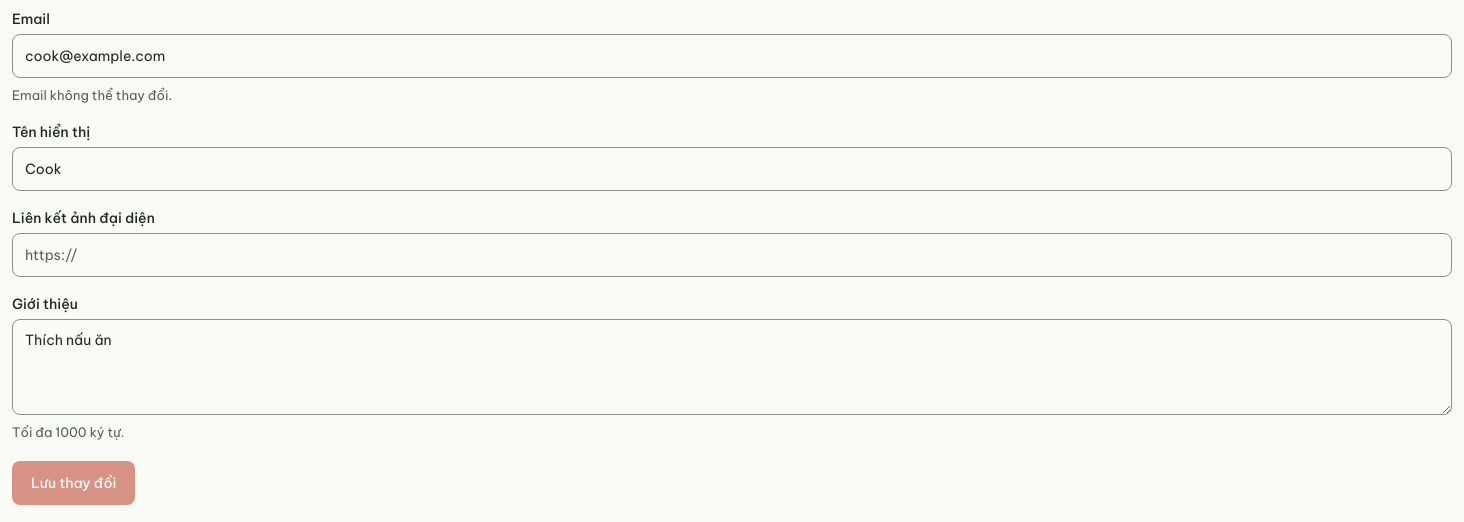
Test: ProfileForm › keeps save disabled until something changes
The width and height of the screenshot is (1464, 522).
Expected: the button "Lưu thay đổi" is disabled, [12,461,135,505]
Type "!" into the field labelled "Tên hiển thị" at (732, 169), box [12,147,1452,191]
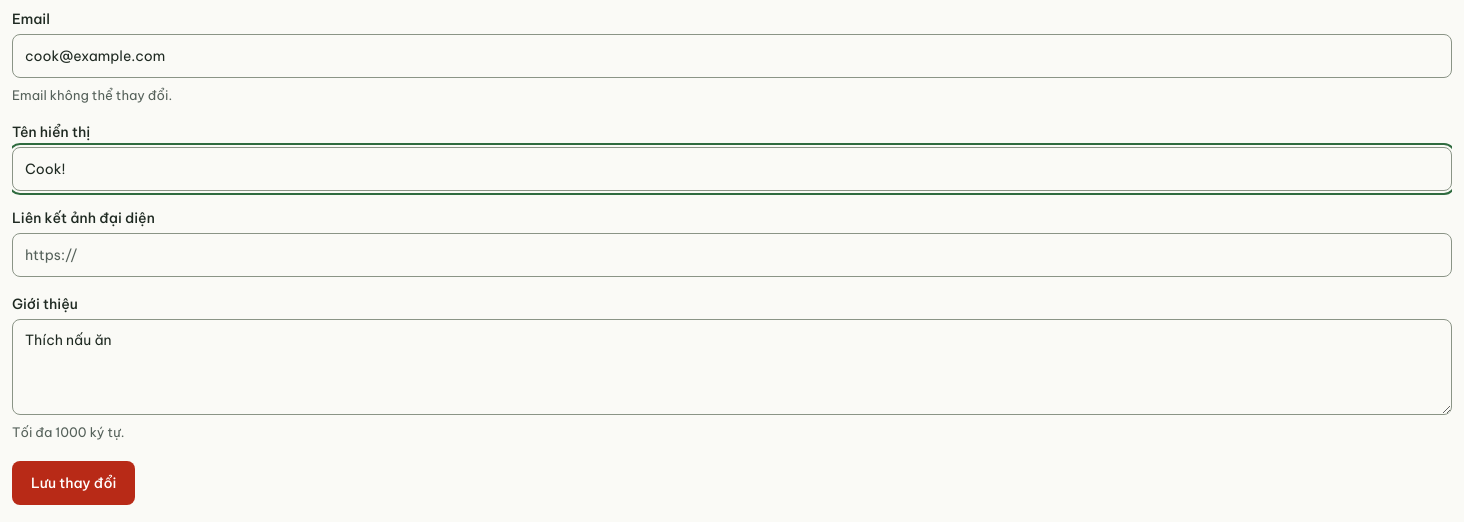
Expected: the button "Lưu thay đổi" is enabled, [12,461,135,505]
